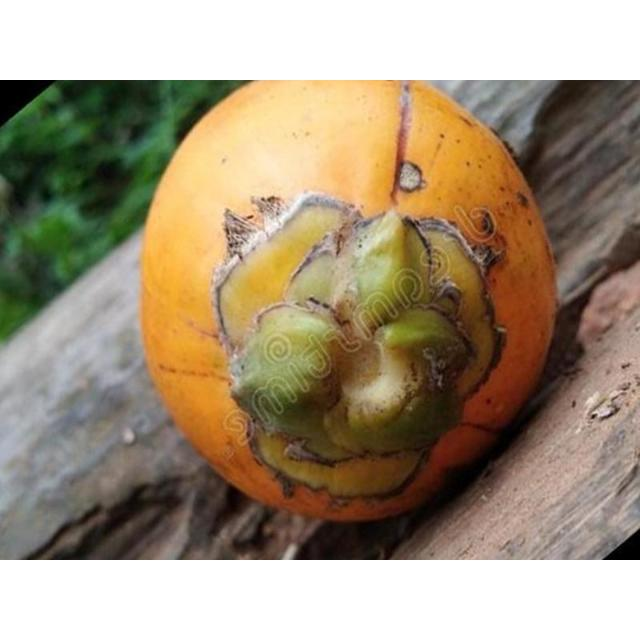good: (138, 80, 555, 527)
